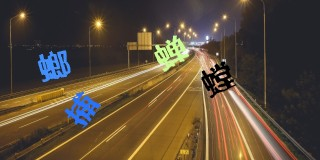捕: (64, 90, 101, 128)
蝉: (152, 34, 189, 73)
螂: (36, 49, 72, 82)
螳: (200, 61, 237, 99)
